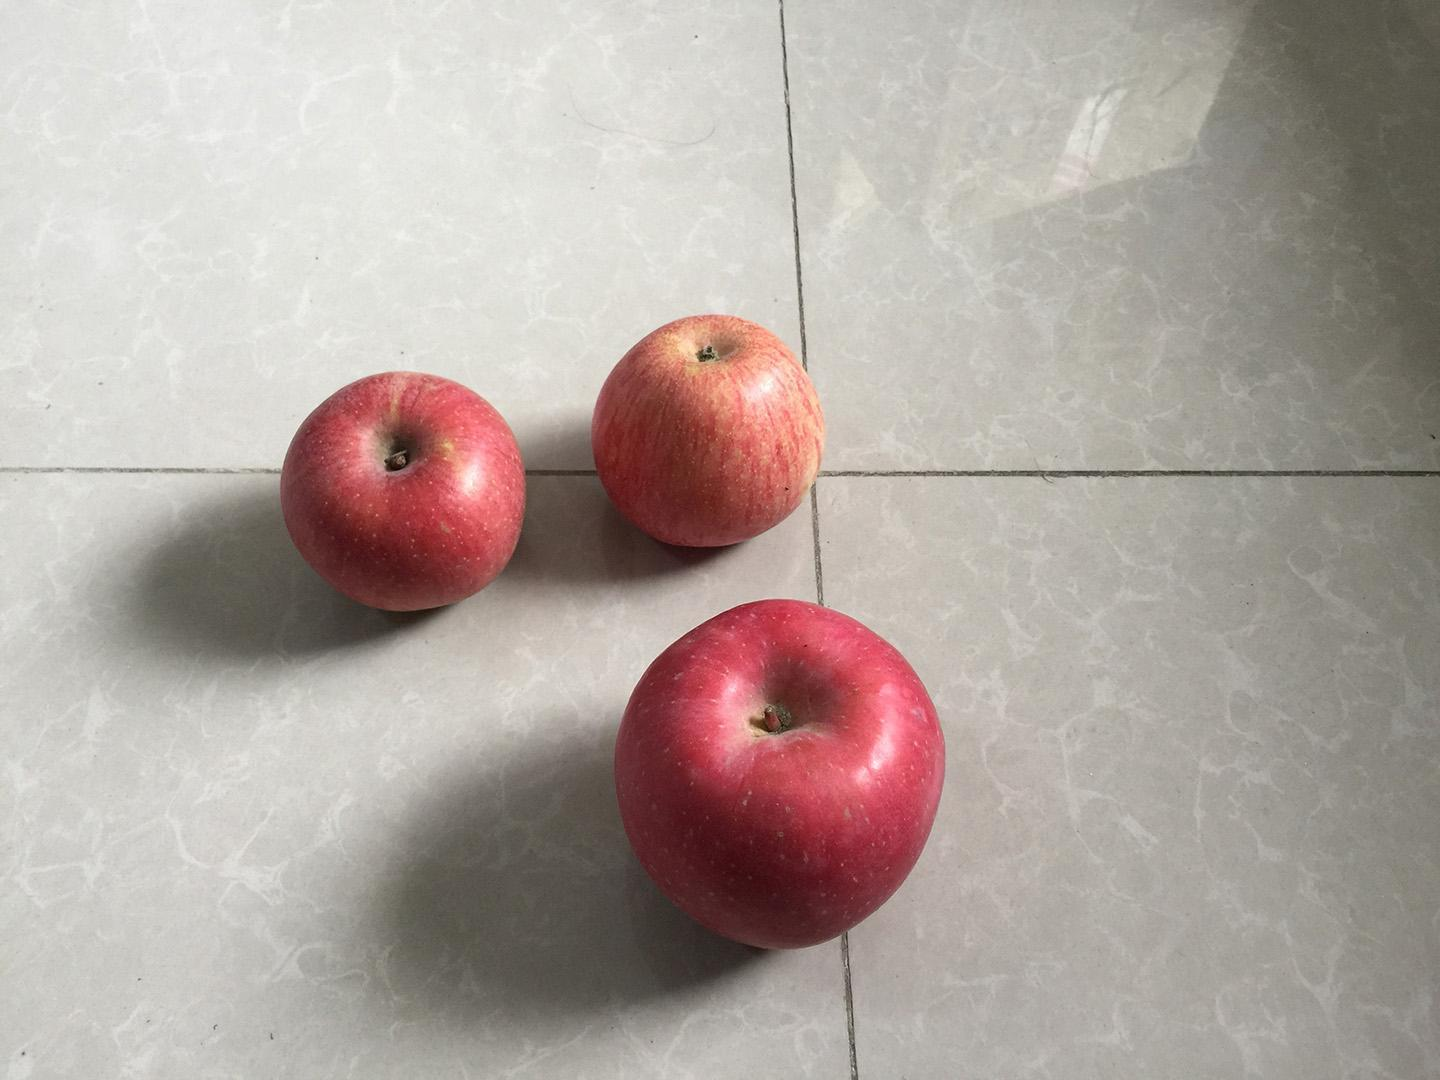apple: (604, 589, 952, 956), (268, 365, 535, 618), (583, 306, 833, 554)
